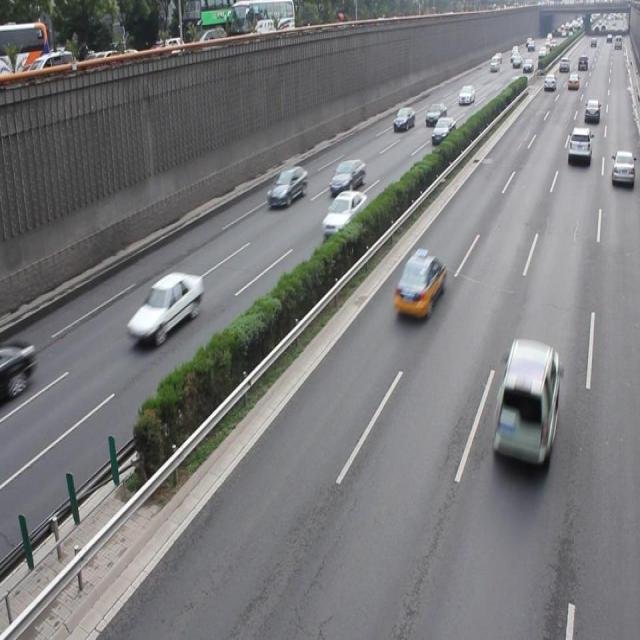car: (492, 338, 559, 470), (126, 271, 203, 345), (392, 251, 444, 319), (320, 190, 366, 235), (267, 164, 308, 207), (328, 157, 366, 193), (610, 149, 640, 188)
